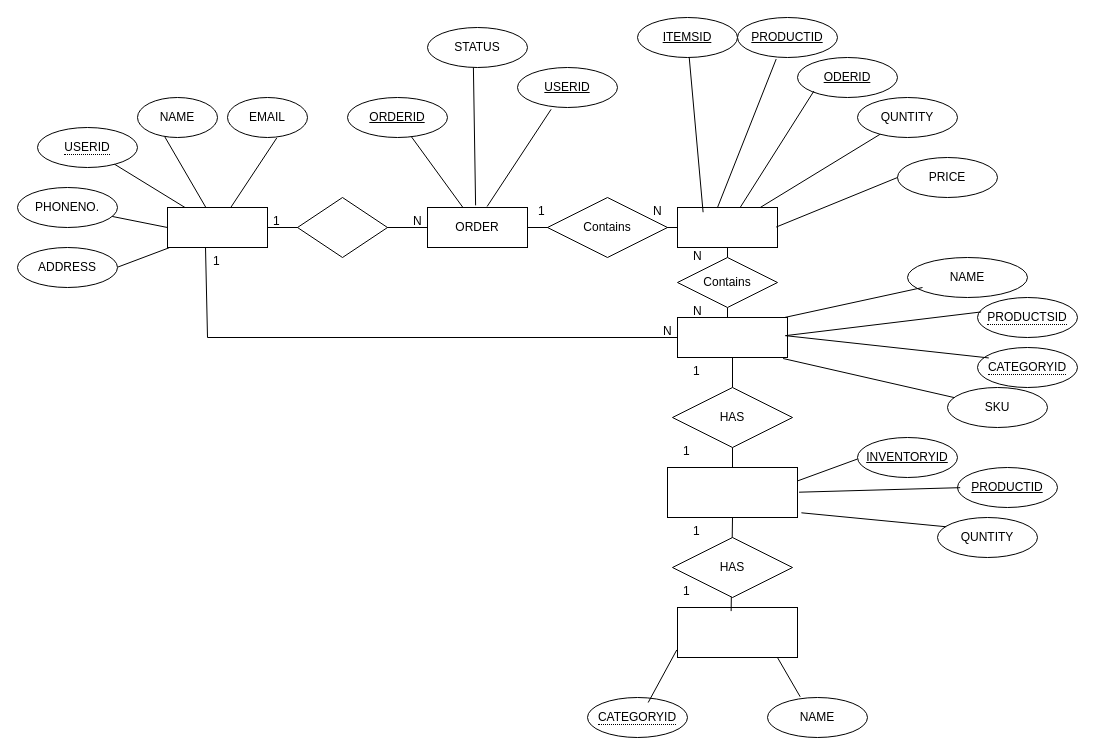
Image size: 1095x755. Some labels were removed from this diagram. Here are the shapes that lost their labels. From the top down, the centre of each, then its label:
At (217,227): "USER".
At (342,227): "PLACE".
At (727,227): "ORDERITEMS".
At (732,337): "PRODUCT".
At (732,492): "INVENTORY".
At (737,632): "CATEGORIES".
